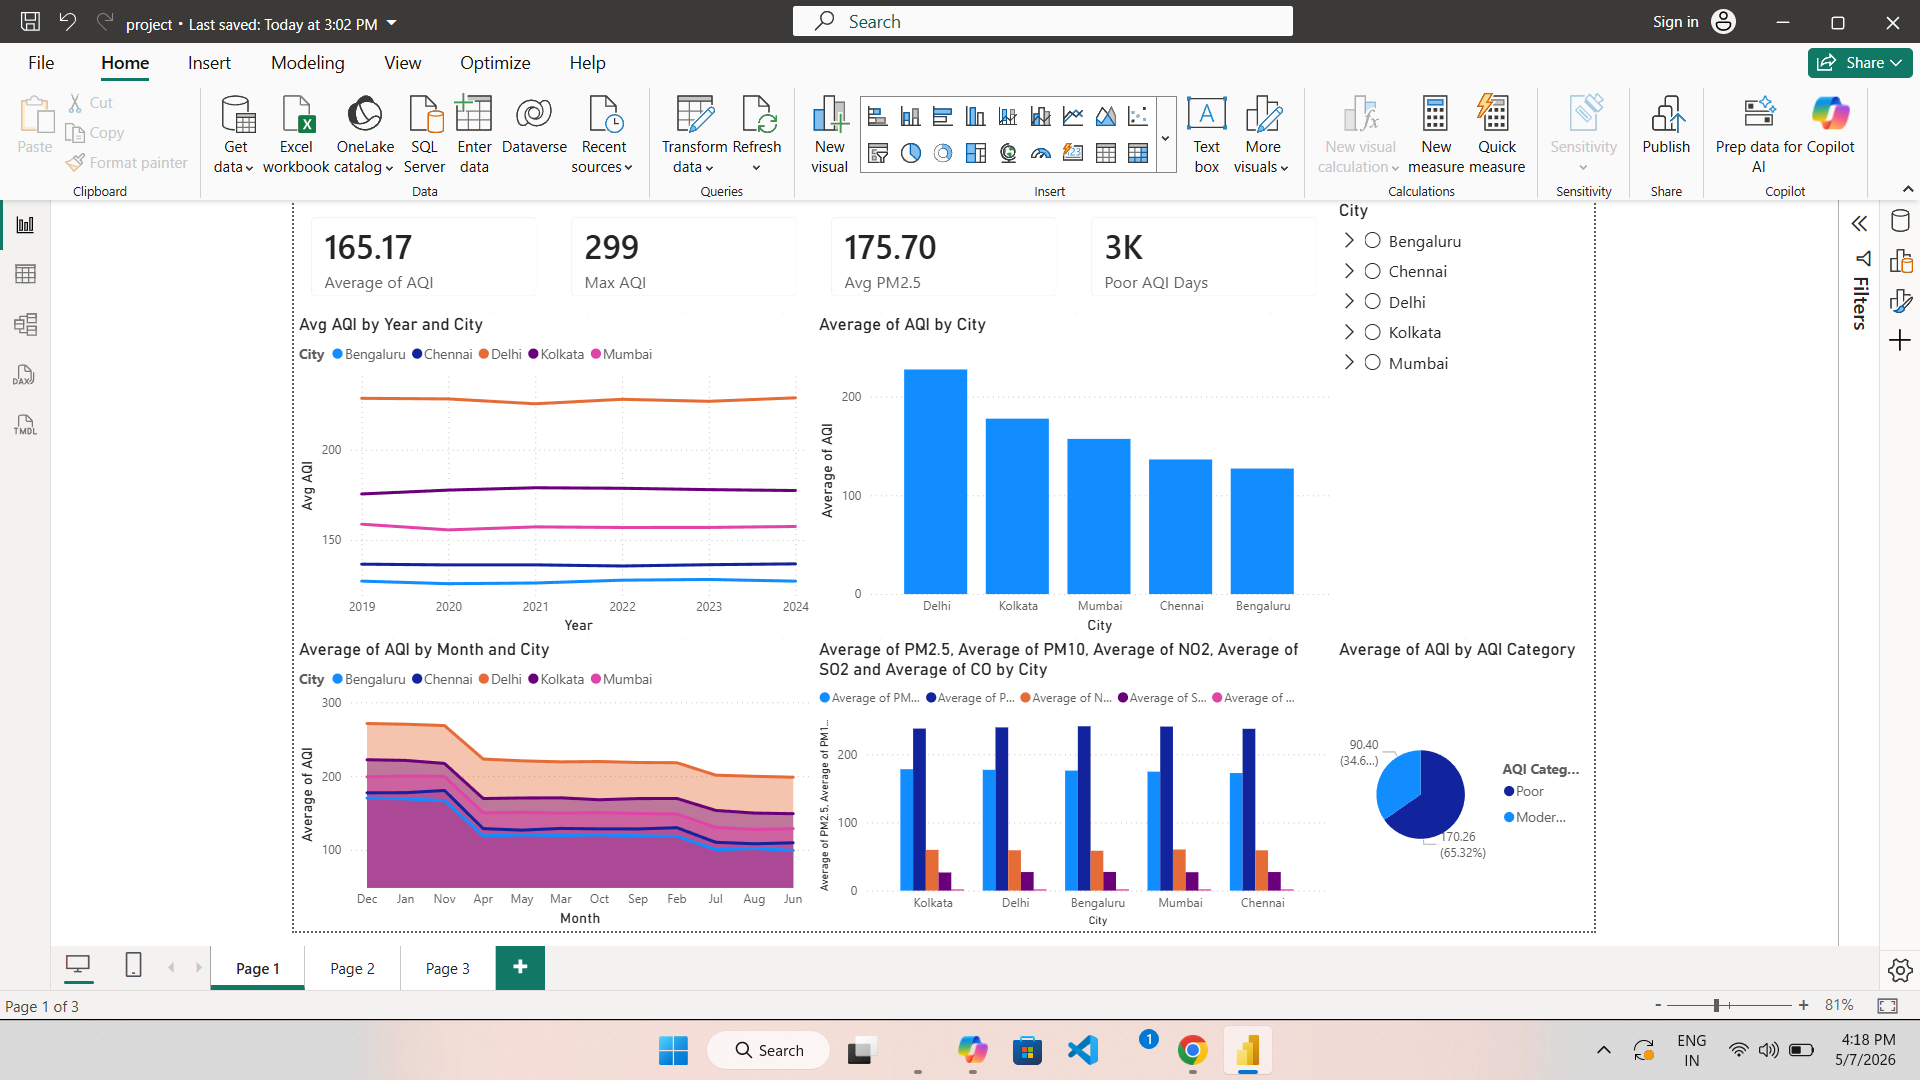

The page's visual inventory and layout, read from the dashboard file:
{"tool":"powerbi","page":{"name":"Page 1","canvas":[1280,720],"ordinal":0},"visuals":[{"type":"lineChart","fields":{"Category":["cleaned_air_quality.Date.Variation.Date Hierarchy.Year","cleaned_air_quality.Date.Variation.Date Hierarchy.Quarter","cleaned_air_quality.Date.Variation.Date Hierarchy.Month","cleaned_air_quality.Date.Variation.Date Hierarchy.Day"],"Y":["cleaned_air_quality.Avg AQI"],"Series":["cleaned_air_quality.City"]},"box":[0,112,512,320],"z":0},{"type":"clusteredColumnChart","fields":{"Category":["cleaned_air_quality.City"],"Y":["Avg(cleaned_air_quality.AQI)"]},"box":[512,112,512,320],"z":1000},{"type":"areaChart","fields":{"Category":["cleaned_air_quality.Month"],"Y":["Avg(cleaned_air_quality.AQI)"],"Series":["cleaned_air_quality.City"]},"box":[0,432,512,288],"z":2000},{"type":"cardVisual","fields":{"Data":["Avg(cleaned_air_quality.AQI)"]},"box":[0,0,256,112],"z":3000},{"type":"cardVisual","fields":{"Data":["cleaned_air_quality.Max AQI"]},"box":[256,0,256,112],"z":3001},{"type":"cardVisual","fields":{"Data":["cleaned_air_quality.Avg PM2.5"]},"box":[512,0,256,112],"z":3002},{"type":"cardVisual","fields":{"Data":["cleaned_air_quality.Poor AQI Days"]},"box":[768,0,256,112],"z":3003},{"type":"clusteredColumnChart","fields":{"Category":["cleaned_air_quality.City"],"Y":["Avg(cleaned_air_quality.PM2.5)","Avg(cleaned_air_quality.PM10)","Avg(cleaned_air_quality.NO2)","Avg(cleaned_air_quality.SO2)","Avg(cleaned_air_quality.CO)"]},"box":[512,432,512,288],"z":3004},{"type":"listSlicer","fields":{"Values":["cleaned_air_quality.City","cleaned_air_quality.Year","cleaned_air_quality.Month"]},"box":[1024,0,256,432],"z":3005},{"type":"pieChart","fields":{"Category":["cleaned_air_quality.AQI Category"],"Y":["Avg(cleaned_air_quality.AQI)"]},"box":[1024,432,256,288],"z":3006}]}

Visuals, with their boxes on the page's 1280x720 design canvas (x1, y1, x2, y2). These are canvas units, not pixel positions in the 1920x1080 screenshot, which may show the page scaled, cropped or inside an application window:
lineChart - cleaned_air_quality.Date.Variation.Date Hierarchy.Year x cleaned_air_quality.Date.Variation.Date Hierarchy.Quarter: bbox=(0, 112, 512, 432)
clusteredColumnChart - cleaned_air_quality.City x Avg(cleaned_air_quality.AQI): bbox=(512, 112, 1024, 432)
areaChart - cleaned_air_quality.Month x Avg(cleaned_air_quality.AQI): bbox=(0, 432, 512, 720)
cardVisual - Avg(cleaned_air_quality.AQI): bbox=(0, 0, 256, 112)
cardVisual - cleaned_air_quality.Max AQI: bbox=(256, 0, 512, 112)
cardVisual - cleaned_air_quality.Avg PM2.5: bbox=(512, 0, 768, 112)
cardVisual - cleaned_air_quality.Poor AQI Days: bbox=(768, 0, 1024, 112)
clusteredColumnChart - cleaned_air_quality.City x Avg(cleaned_air_quality.PM2.5): bbox=(512, 432, 1024, 720)
listSlicer - cleaned_air_quality.City x cleaned_air_quality.Year: bbox=(1024, 0, 1280, 432)
pieChart - cleaned_air_quality.AQI Category x Avg(cleaned_air_quality.AQI): bbox=(1024, 432, 1280, 720)
